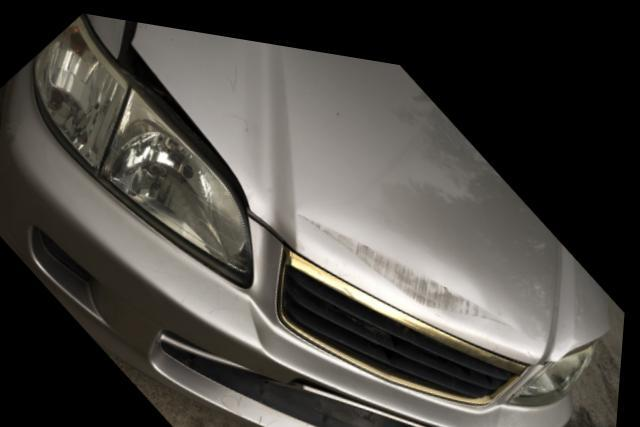dent: (301, 201, 518, 318)
